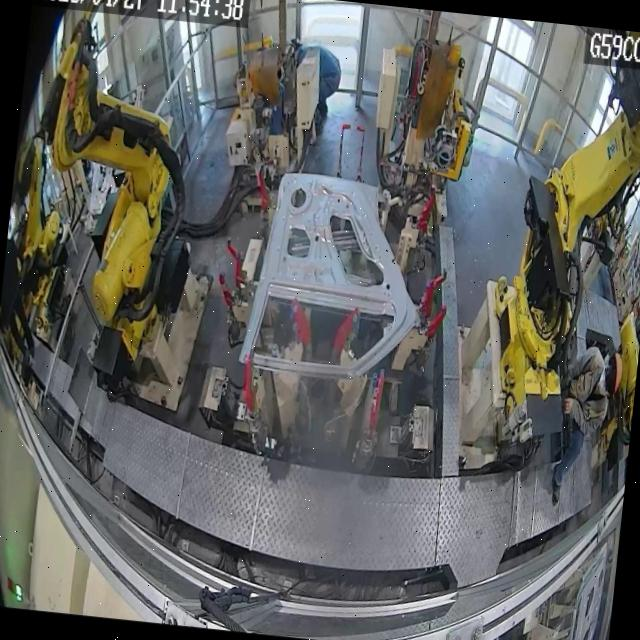Person: (548, 342, 624, 512), (0, 227, 52, 375), (287, 40, 343, 137)
